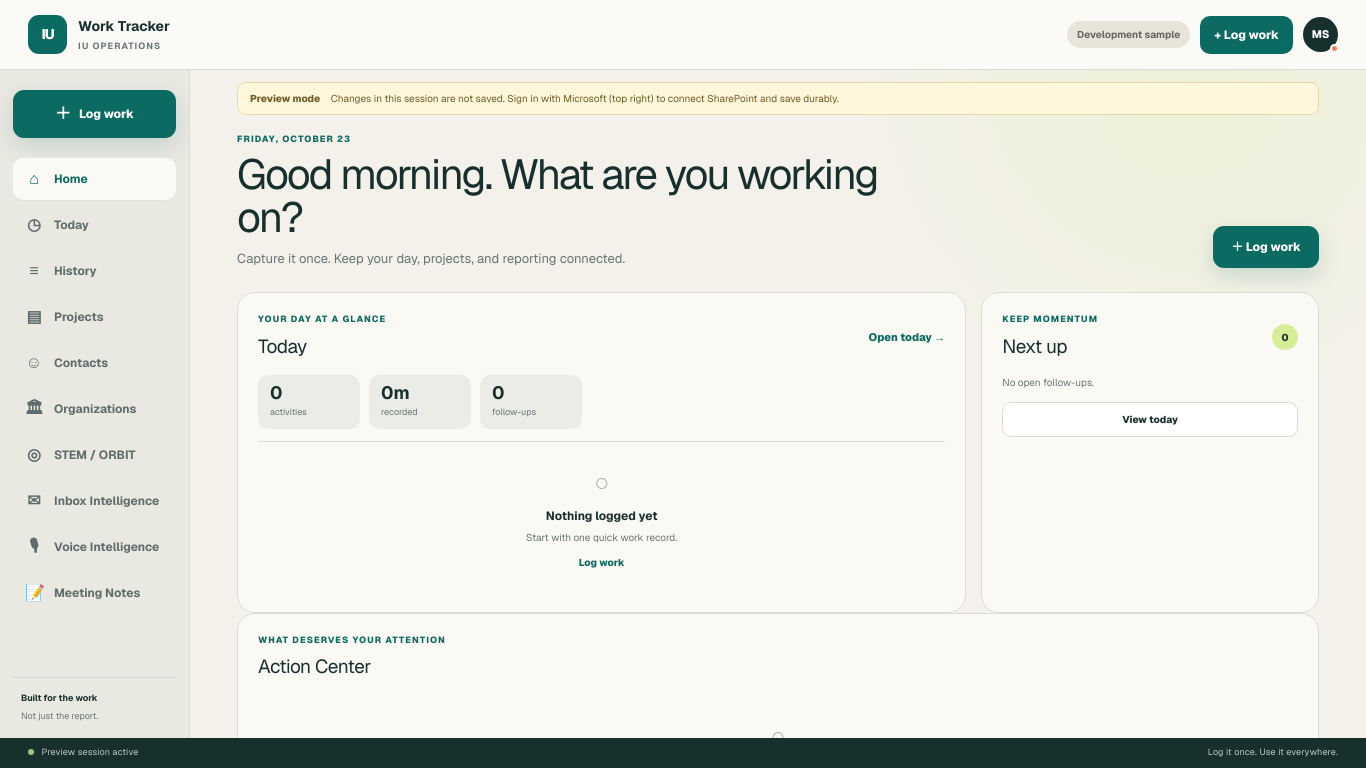
Entry point › Contacts has an Import Contacts action that opens the import screen
Click the button "☺ Contacts" at point(94, 363), box [13, 342, 176, 384]
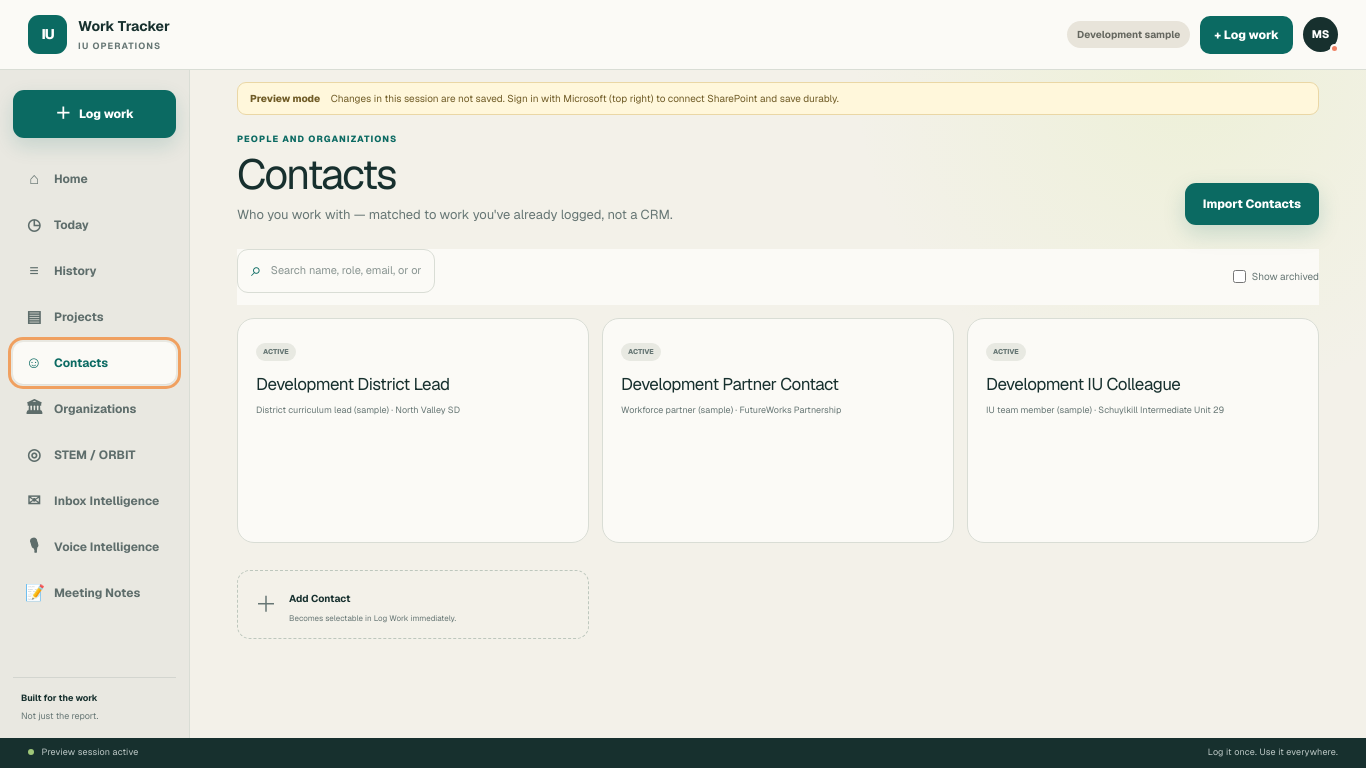
Expected: the heading "Contacts" is shown, [237, 146, 396, 200]
Click the button "Import Contacts" at point(1252, 204), box [1185, 183, 1319, 225]
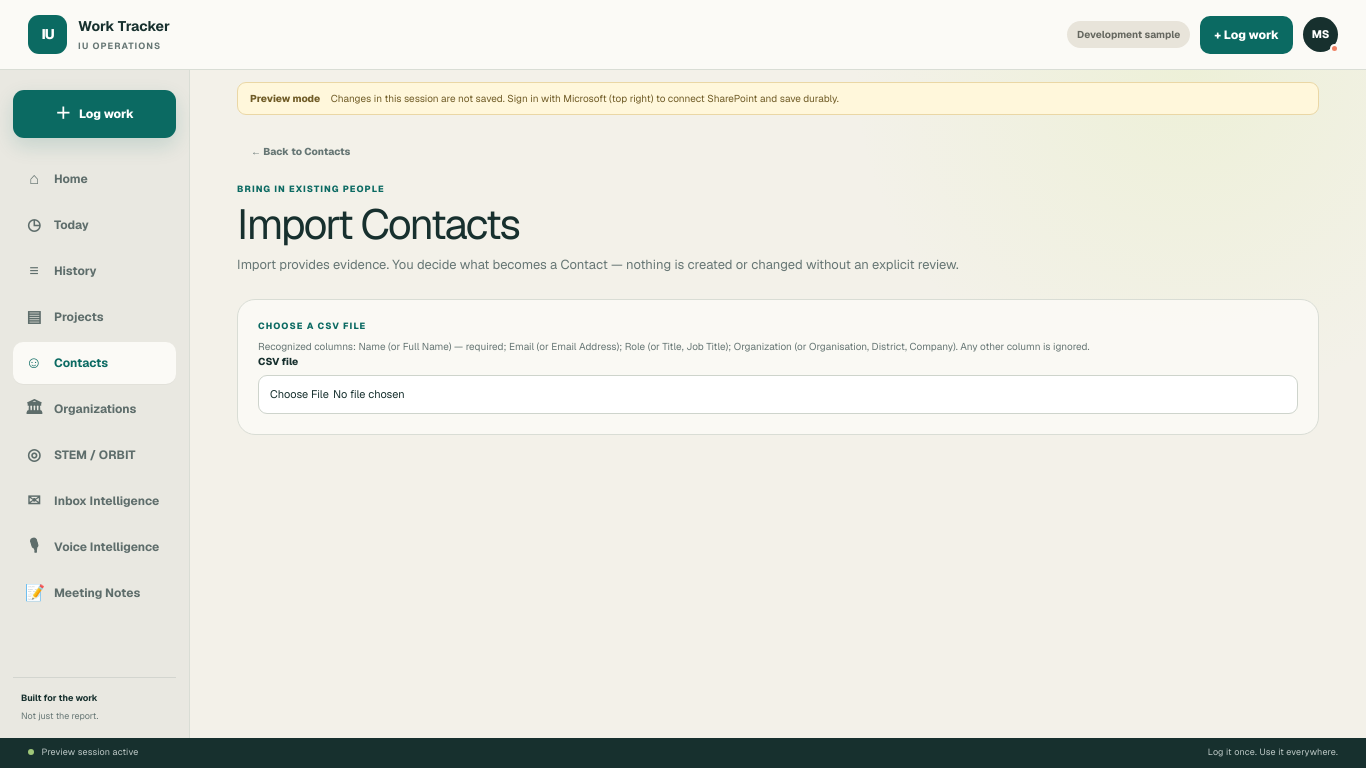
Expected: the heading "Import Contacts" is shown, [237, 196, 519, 250]
